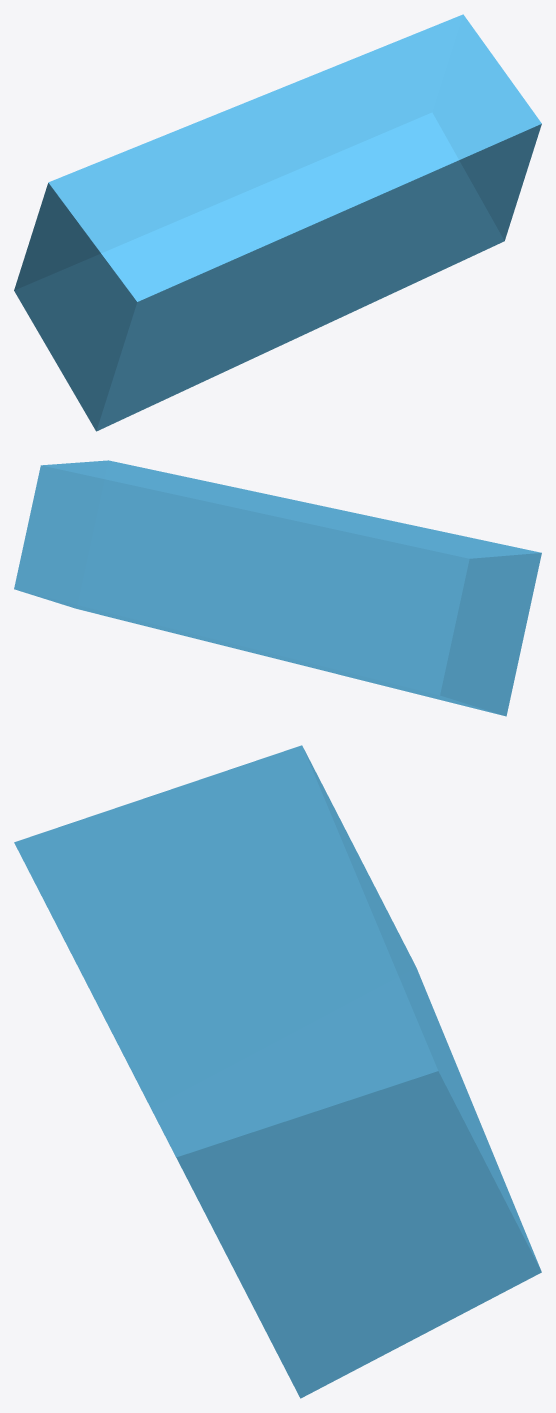
File: Event_421127236_HErechit_3.fbx
The picture shows the model from 3 angles, top to bottom: view 1: azimuth 30°, elevation 25°; view 2: azimuth 150°, elevation 25°; view 3: azimuth 270°, elevation 25°; orthographic projection. The views are drawn at different scales.
Parts seen in each view (by area): view 1: Model; view 2: Model; view 3: Model.
Part boxes in pixels (left/top/right/bottom): Model: left=14, top=14, right=541, bottom=431; Model: left=14, top=460, right=541, bottom=716; Model: left=14, top=745, right=541, bottom=1398.
Bounding box in the file's own units: 1.05 × 0.5356 × 0.6312.
